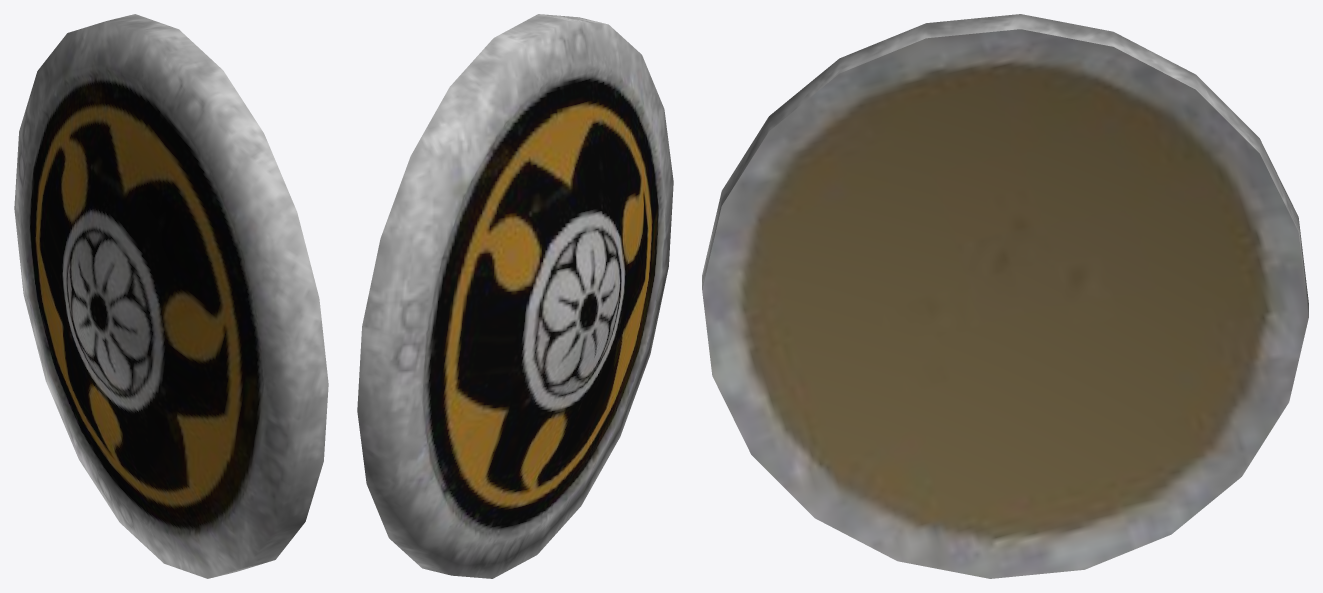
The model's file is shield-base.glb.
The picture shows the model from 3 angles, left to right: view 1: azimuth 30°, elevation 25°; view 2: azimuth 150°, elevation 25°; view 3: azimuth 270°, elevation 25°; orthographic projection. The views are drawn at different scales.
Bounding box in the file's own units: 0.0959 × 0.5369 × 0.5369.
1 material, 1 textured.
